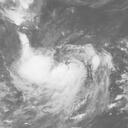cyclone: (20, 44, 84, 101)
